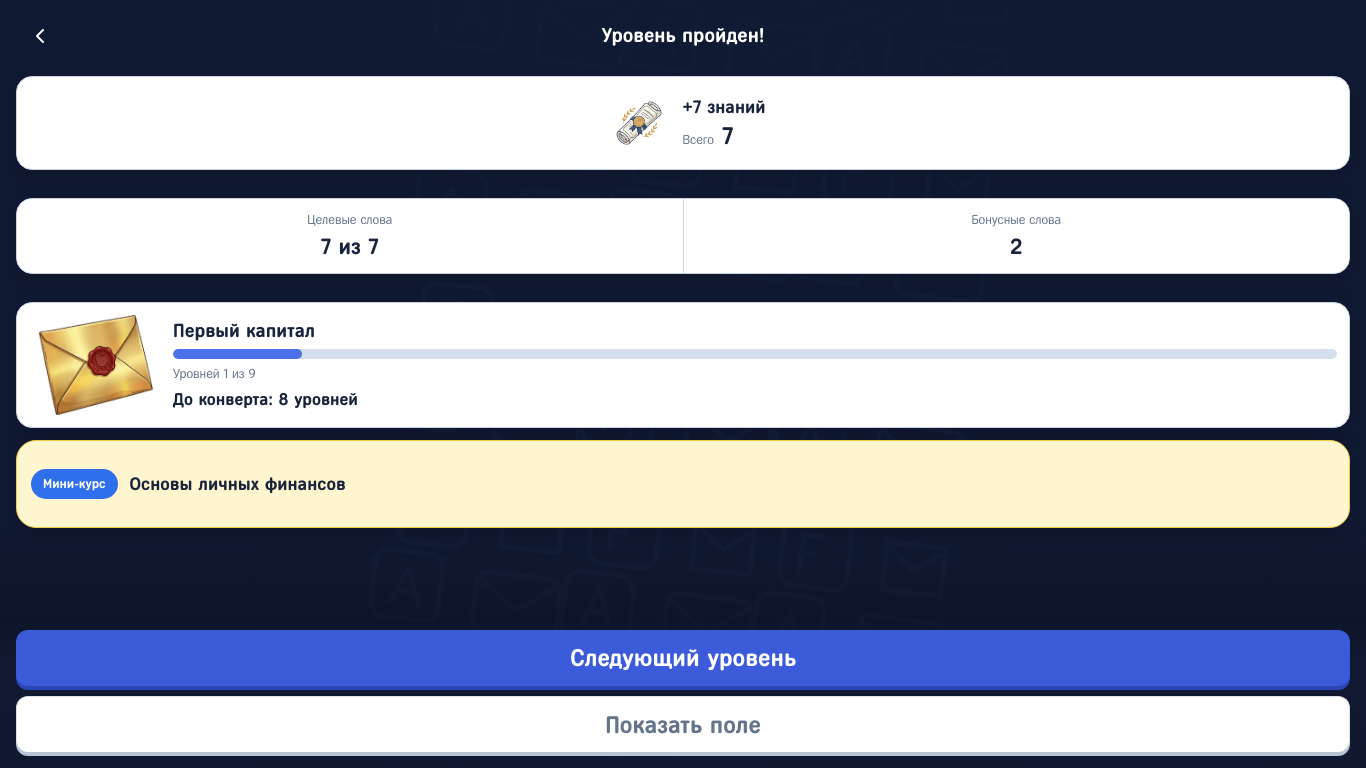
Test case: P4 Results state machine › для rewardless Header Back подтверждает Results и открывает Home только после успеха
Expected: the heading "Уровень пройден!" is shown, [602,25,764,46]
Click the button named "На главный экран" at (40, 36), box [16,12,64,60]
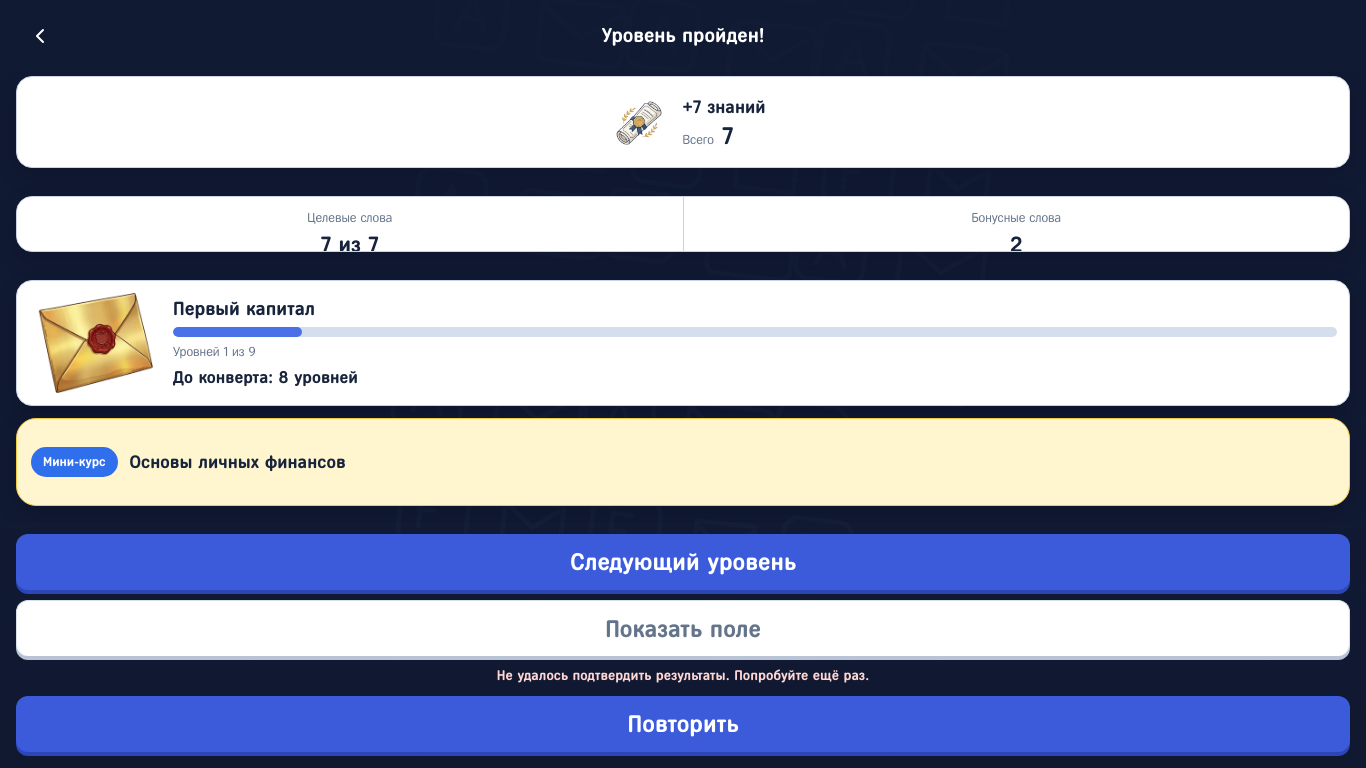
Click the button "Повторить" at (683, 724), box [16,696,1350,752]
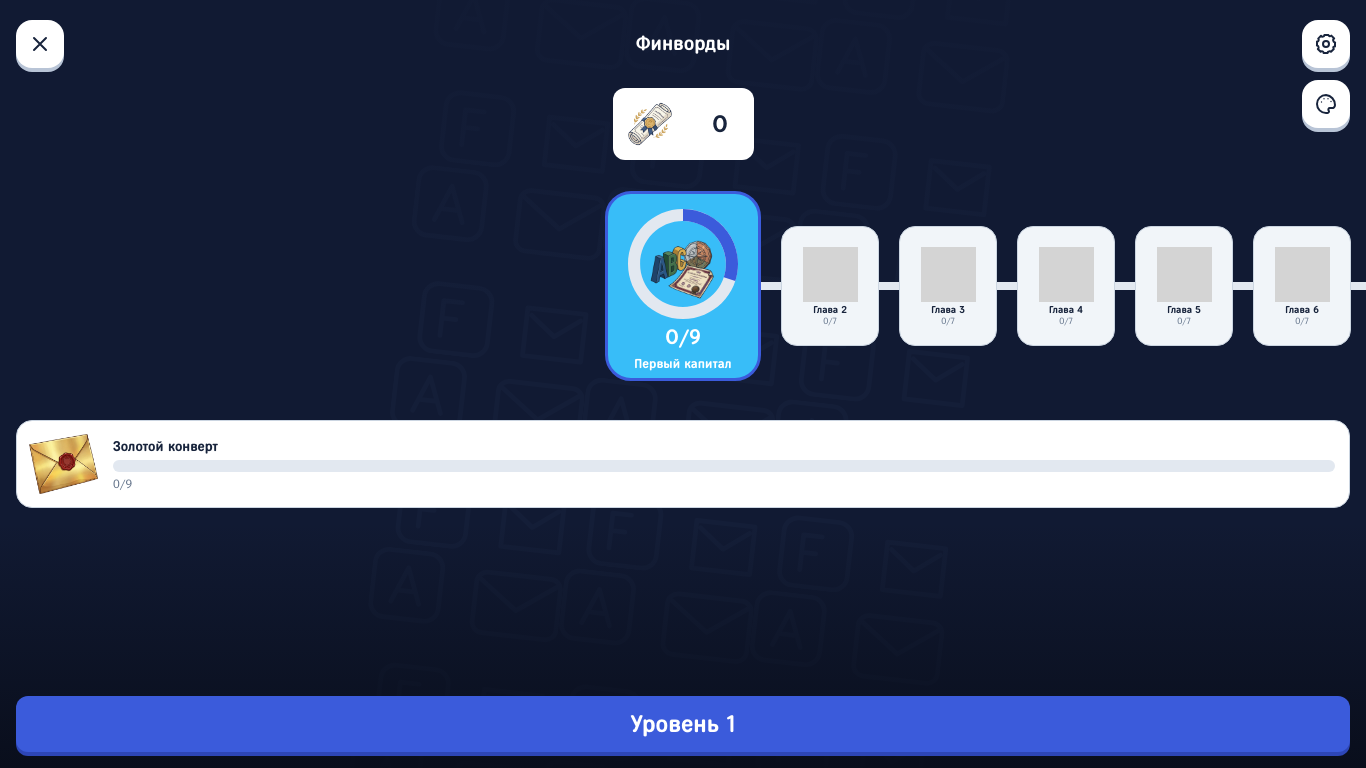
Expected: the element named "Главный экран" is shown
